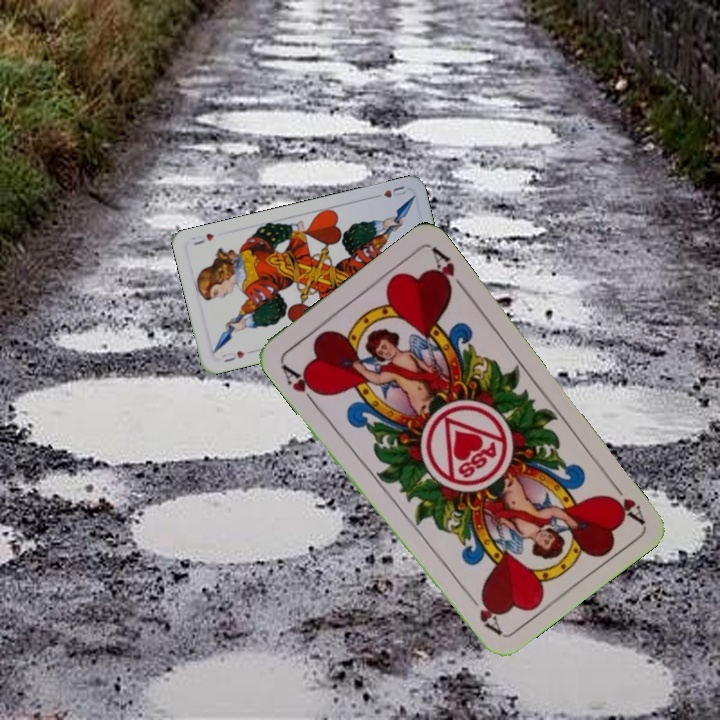HA: (277, 360, 325, 409), (602, 474, 647, 525)
HU: (369, 182, 409, 201), (218, 347, 248, 365)
